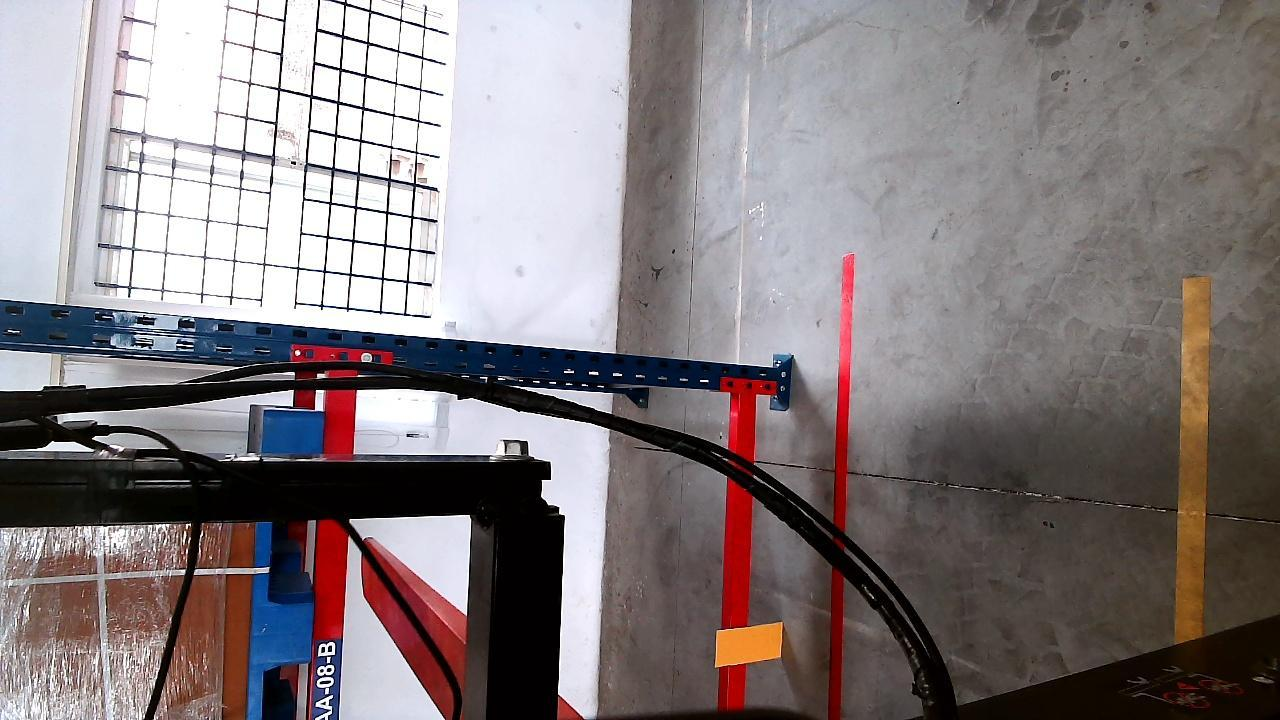red_line: (830, 253, 857, 716)
yellow_line: (1176, 275, 1211, 638)
